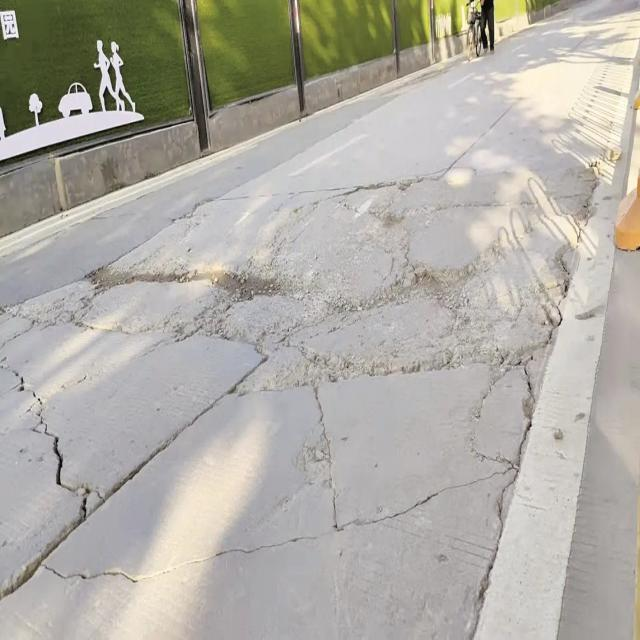Pothole: (73, 248, 301, 330), (531, 171, 596, 424), (23, 422, 128, 542), (389, 244, 490, 329), (336, 164, 456, 212)
